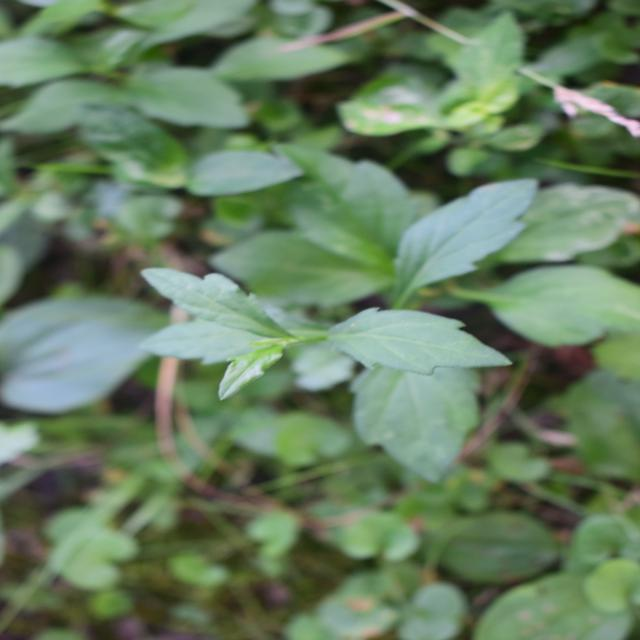Indian aster: (221, 126, 461, 568)
